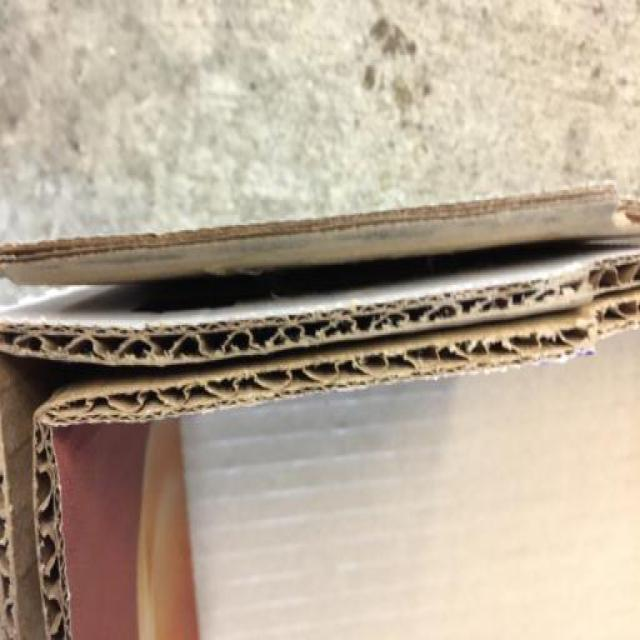cardboard: (0, 185, 640, 640)
